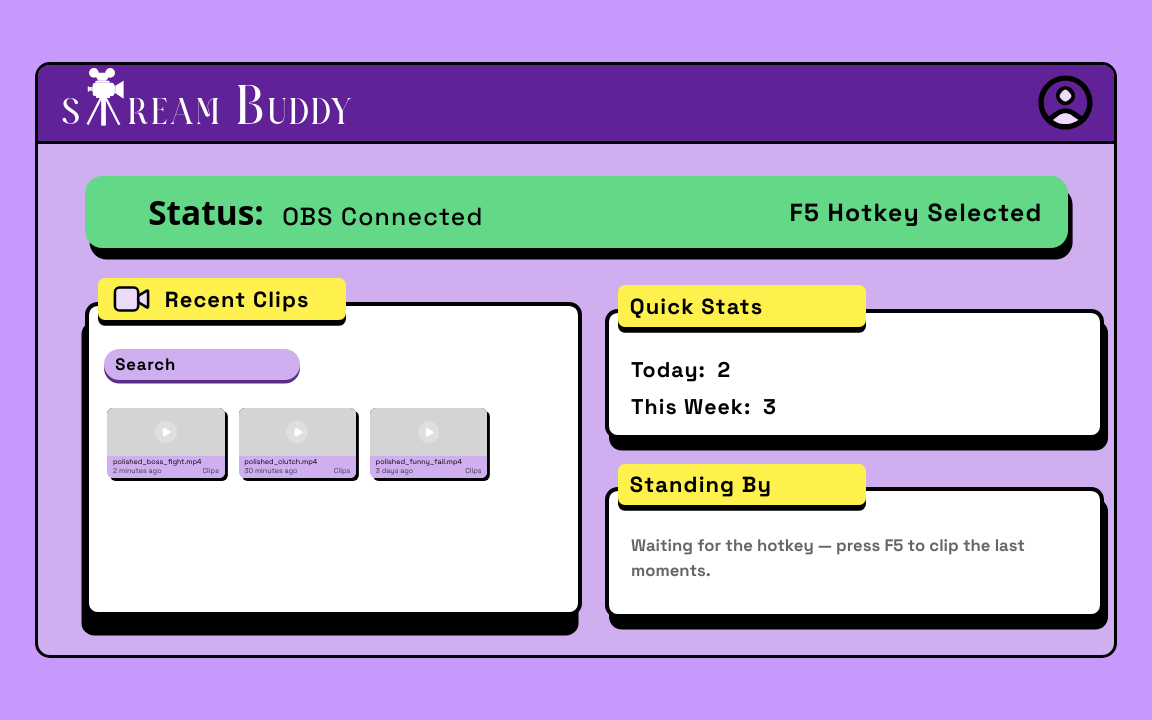
it: selecting clips › a plain click plays the clip when nothing is selected
Click the button titled "polished_clutch.mp4": (297, 443) [238, 408, 356, 478]
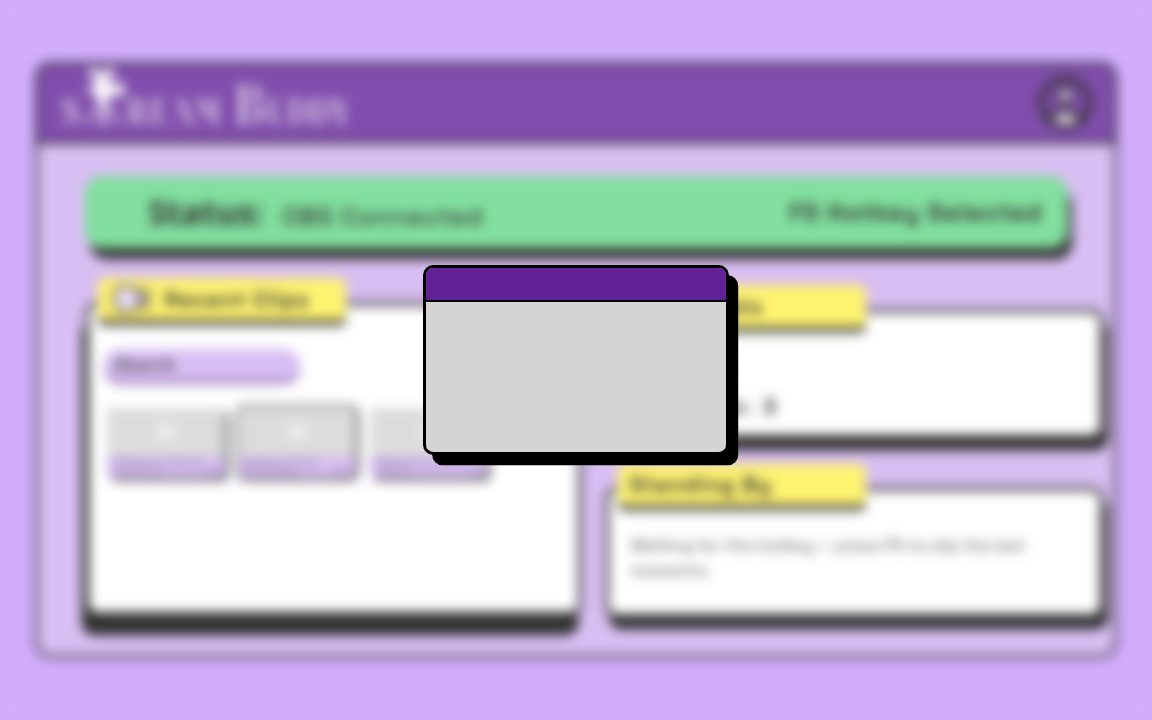
Expected: the dialog named "Playing polished_clutch.mp4" is shown
